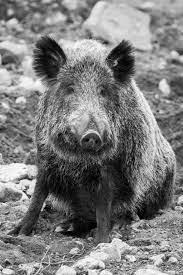wildboar: (1, 33, 178, 248)
